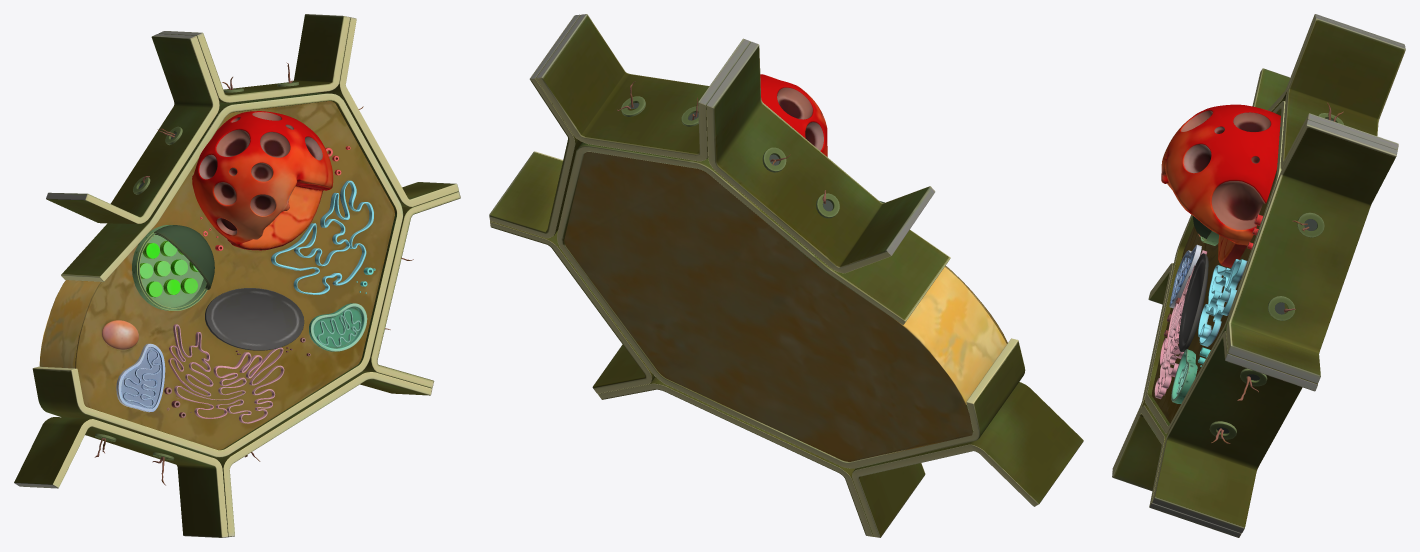
The model's file is modelo.glb.
3 renders of one model, left to right at view 1: azimuth 30°, elevation 25°; view 2: azimuth 150°, elevation 25°; view 3: azimuth 270°, elevation 25°, orthographic. The views are drawn at different scales.
Visible parts, largest first — view 1: Object_6, Object_8; view 2: Object_6; view 3: Object_6, Object_8.
Part boxes in pixels (x1=…): Object_6: x1=14, y1=14, x2=460, y2=537; Object_8: x1=75, y1=101, x2=394, y2=449; Object_6: x1=489, y1=14, x2=1083, y2=537; Object_6: x1=1112, y1=14, x2=1405, y2=537; Object_8: x1=1152, y1=170, x2=1276, y2=423.
Size of the model in its own units: 3.7 by 3.62 by 1.85.
Materials: 1 (1 with a texture image).
